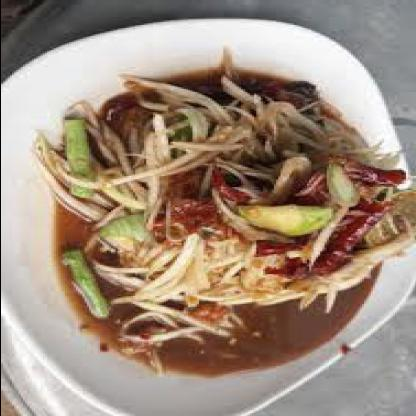Papaya Salad: (24, 70, 405, 377)
